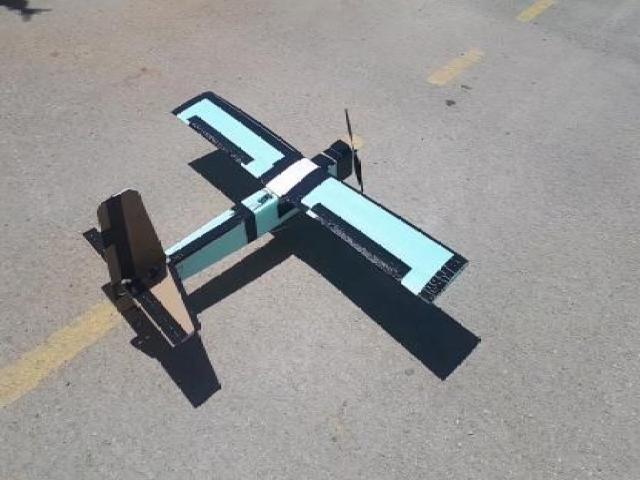uav: (80, 87, 472, 353)
